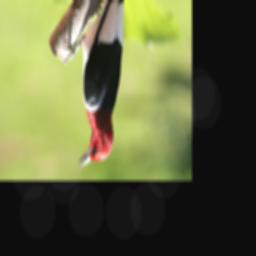Woodpecker: (73, 0, 134, 171)
